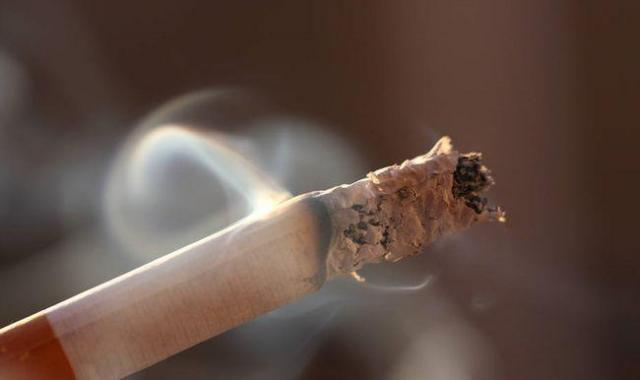Cigarette: (0, 134, 508, 380)
